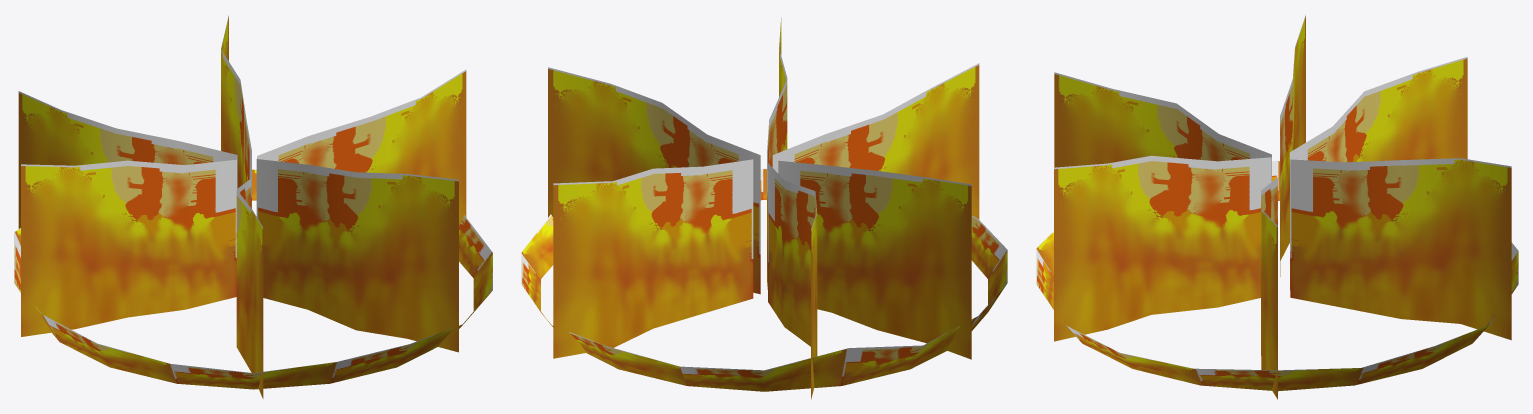
Rendered from dilie_light_big.FBX.
3 views of the same model, side by side, from view 1: azimuth 30°, elevation 25°; view 2: azimuth 150°, elevation 25°; view 3: azimuth 270°, elevation 25° (orthographic).
Visible parts, largest first — view 1: Plane03; view 2: Plane03; view 3: Plane03.
Part boxes in pixels (<box>): Plane03: <box>14,15,492,398</box>; Plane03: <box>521,17,1007,399</box>; Plane03: <box>1036,15,1518,399</box>.
Bounding box in the file's own units: 78.95 × 30.36 × 75.93.
